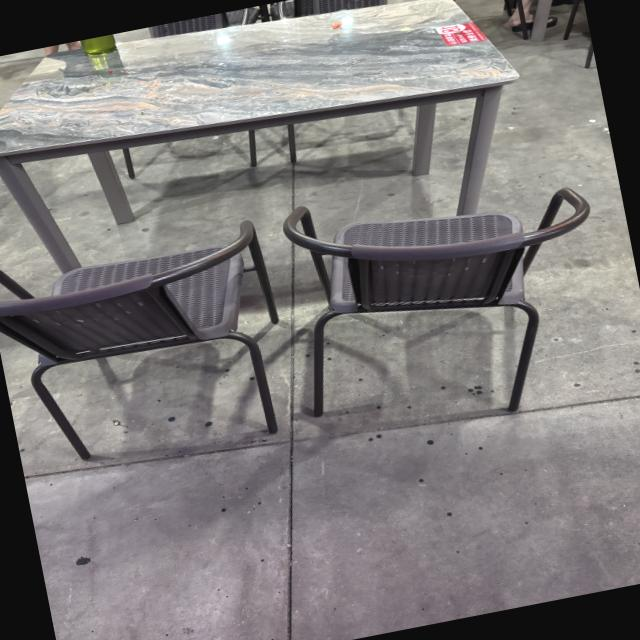Chair: (265, 139, 640, 481), (0, 203, 309, 495)
